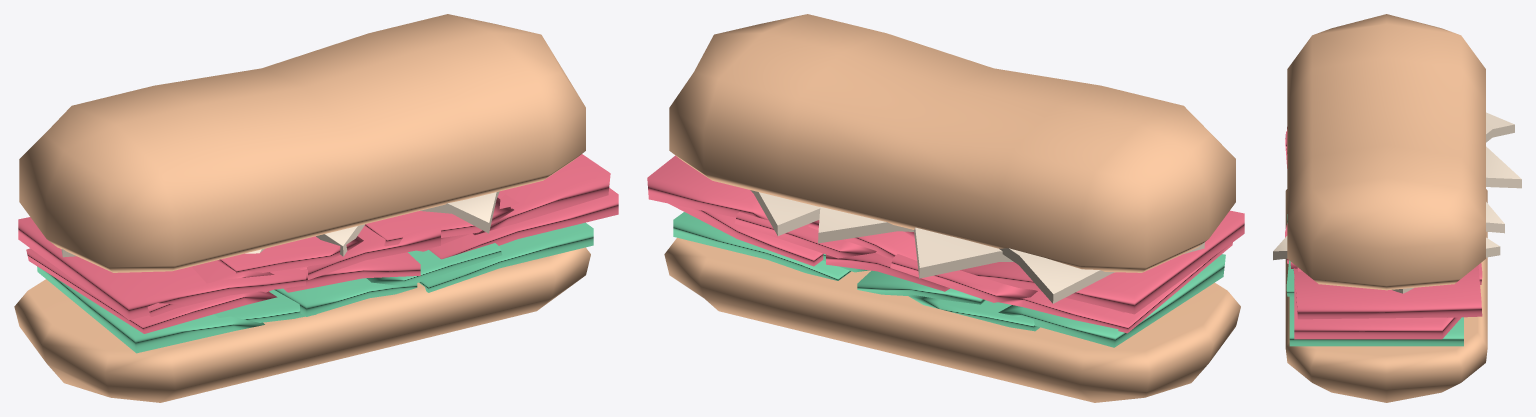
File: Sandwich.fbx
3 views of the same model, side by side, from view 1: azimuth 30°, elevation 25°; view 2: azimuth 150°, elevation 25°; view 3: azimuth 270°, elevation 25° (orthographic). The views are drawn at different scales.
Parts seen in each view (by area): view 1: Sandwich; view 2: Sandwich; view 3: Sandwich.
Part boxes in pixels (left/top/right/bottom): Sandwich: left=14, top=14, right=618, bottom=402; Sandwich: left=647, top=14, right=1244, bottom=402; Sandwich: left=1273, top=14, right=1521, bottom=402.
Bounding box in the file's own units: 55.44 × 25.75 × 27.39.
